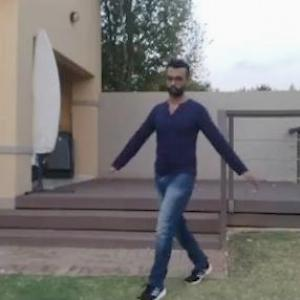land: (118, 61, 255, 284)
